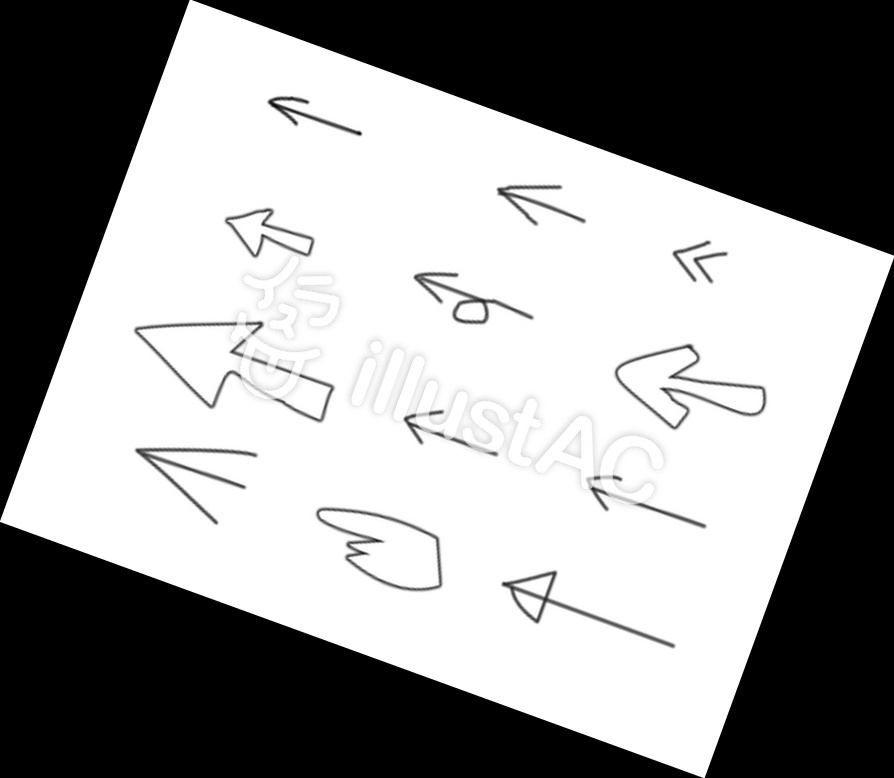arrow: (116, 313, 347, 429), (483, 560, 691, 654), (119, 440, 272, 531), (391, 401, 510, 477), (206, 202, 326, 276), (577, 455, 680, 530), (484, 168, 580, 237), (658, 235, 735, 289), (387, 252, 458, 308), (257, 85, 326, 138)
